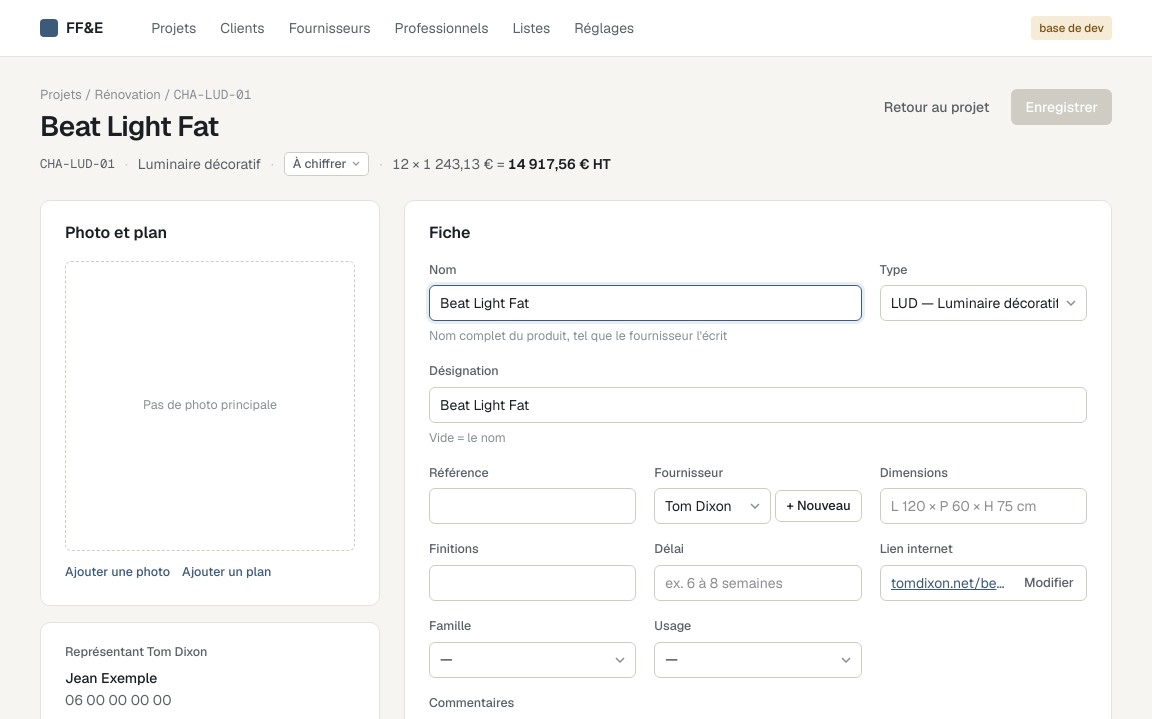
it: page article › quitter avec des modifications non enregistrées demande quoi faire
In the field labelled "Référence": [533, 506] box [429,488,636,524], type "BLS01"
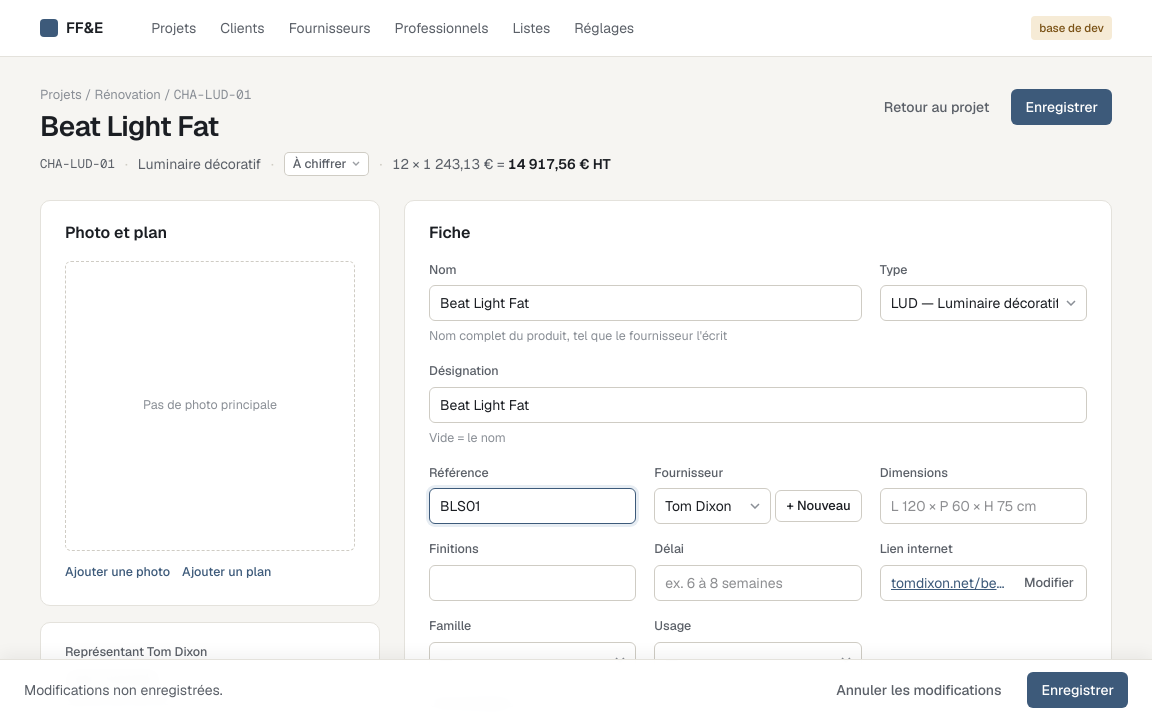
Click the link "Retour au projet": [937, 107] box [884,98,990,116]
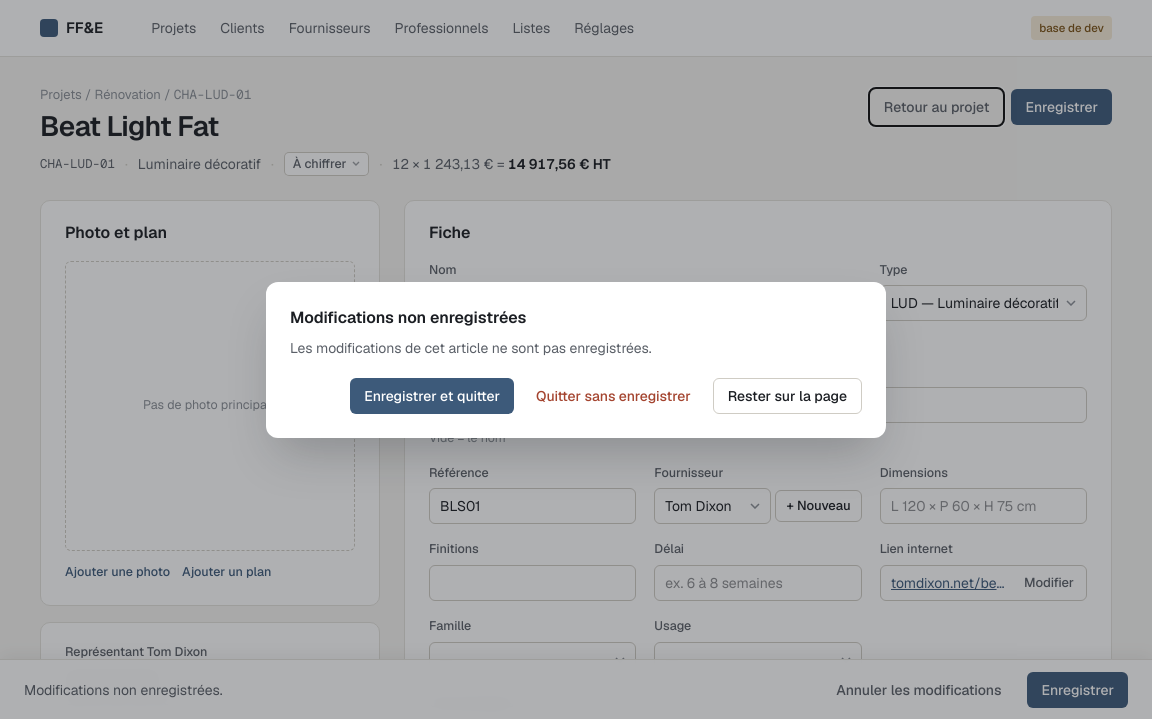
Click the button "Rester sur la page": [787, 396] box [713,378,862,414]
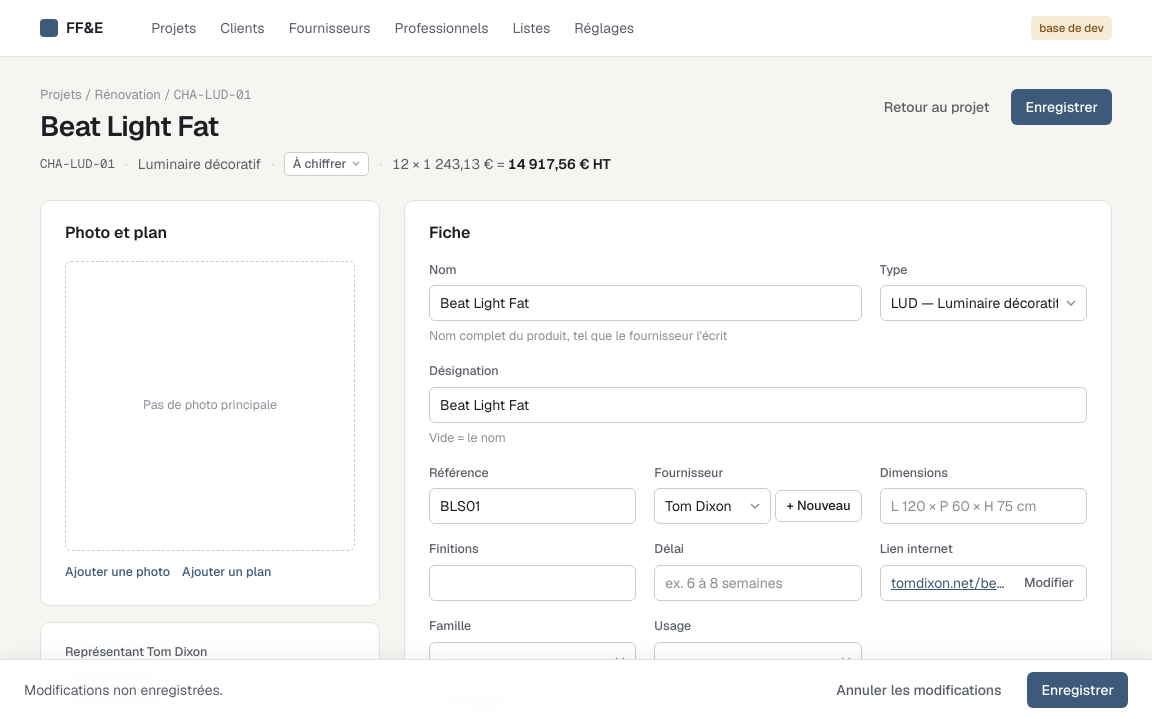
Expected: the heading "Beat Light Fat" is shown, [40,108,219,144]
Click the link "Retour au projet": [937, 107] box [884,98,990,116]
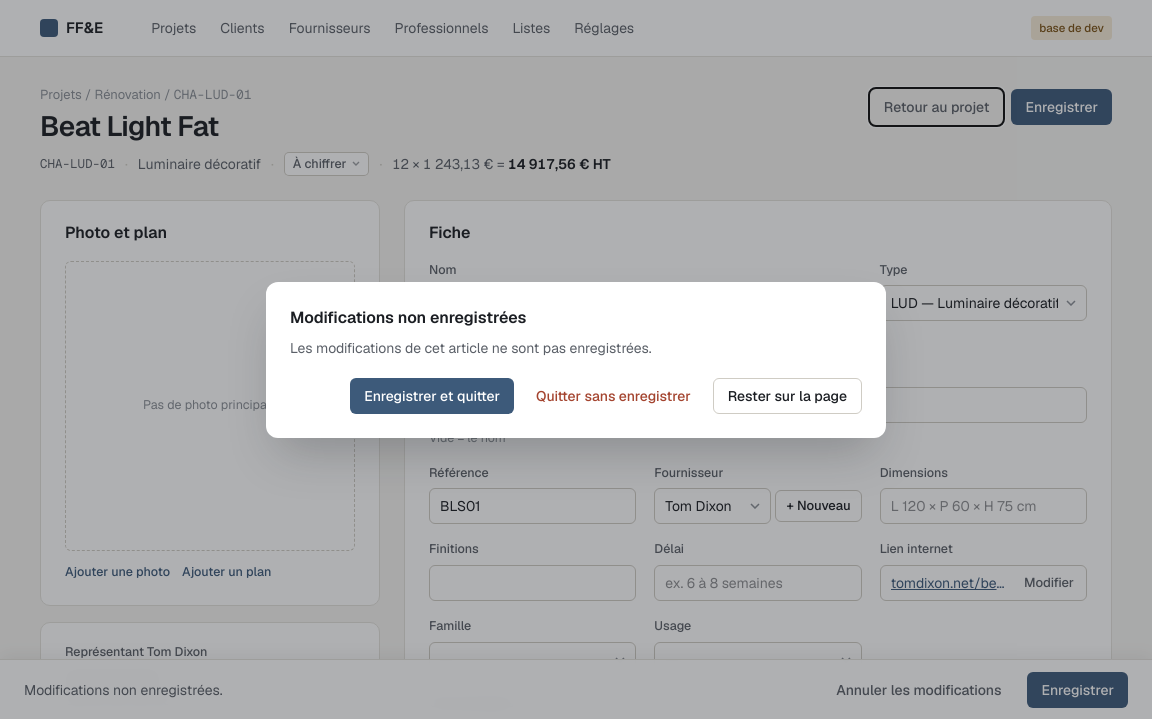
Click the button "Enregistrer et quitter": [432, 396] box [350,378,514,414]
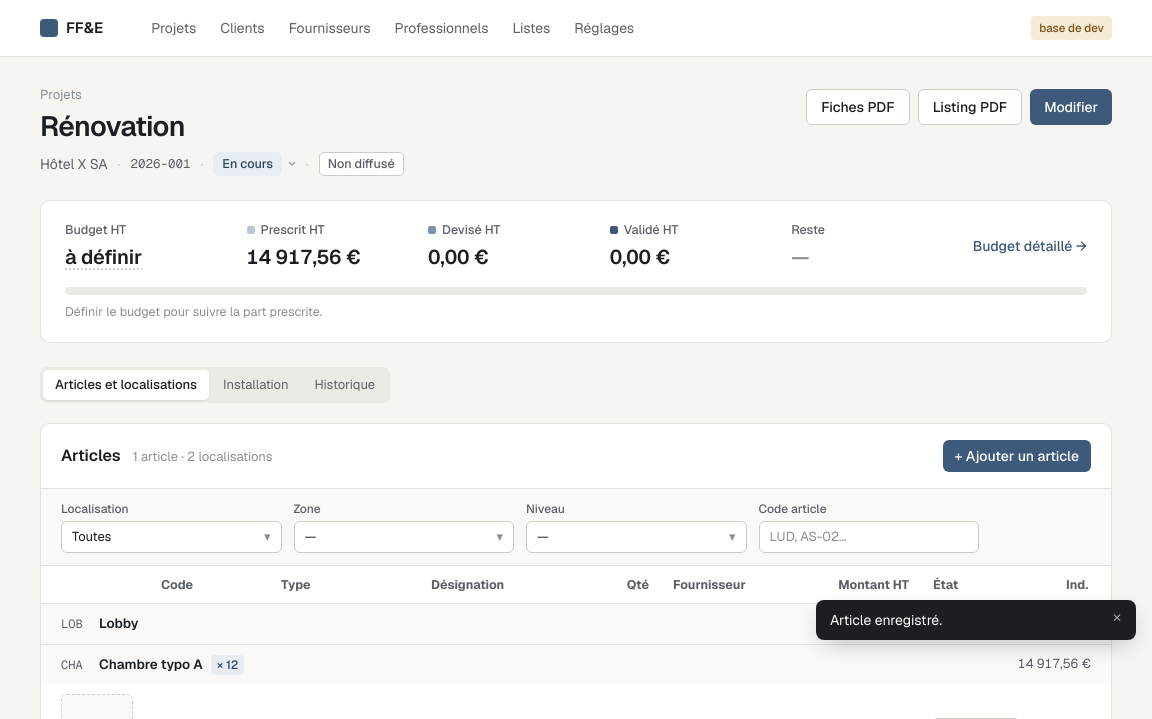
Expected: the heading "Rénovation" is shown, [40,108,185,144]
